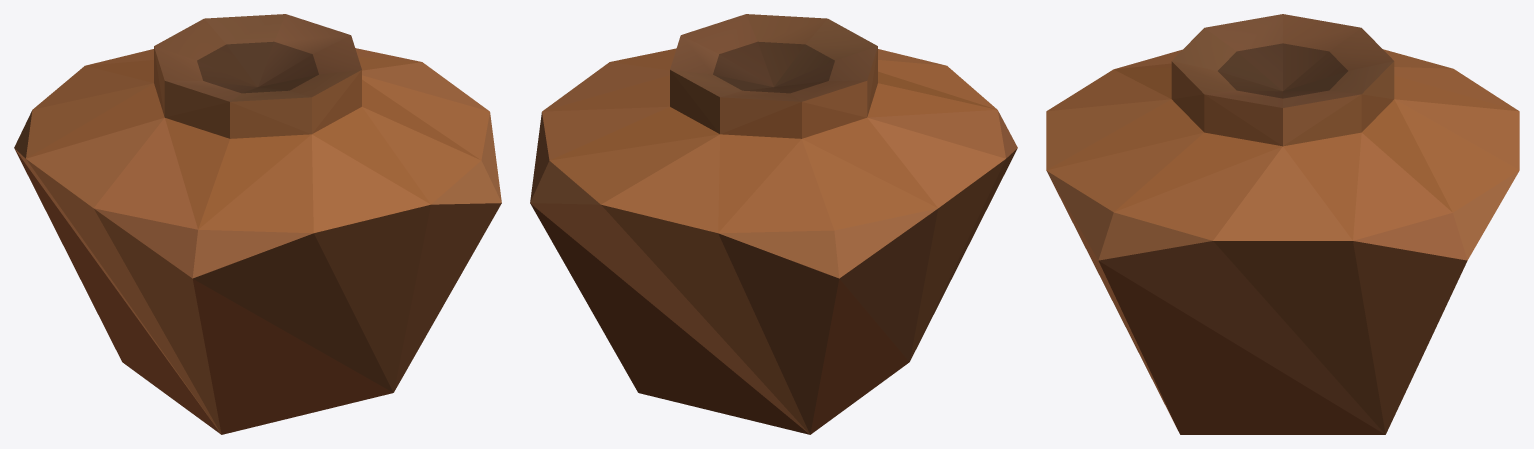
Rendered from prop_container_vase_10.fbx.
3 renders of one model, left to right at view 1: azimuth 30°, elevation 25°; view 2: azimuth 150°, elevation 25°; view 3: azimuth 270°, elevation 25°, orthographic. The views are drawn at different scales.
Parts seen in each view (by area): view 1: prop_container_vase_10; view 2: prop_container_vase_10; view 3: prop_container_vase_10.
Part boxes in pixels (x1,y1,x2,y2): prop_container_vase_10: [14, 14, 501, 434]; prop_container_vase_10: [530, 14, 1017, 434]; prop_container_vase_10: [1046, 14, 1519, 434].
Bounding box in the file's own units: 0.8373 × 0.6451 × 0.8373.
